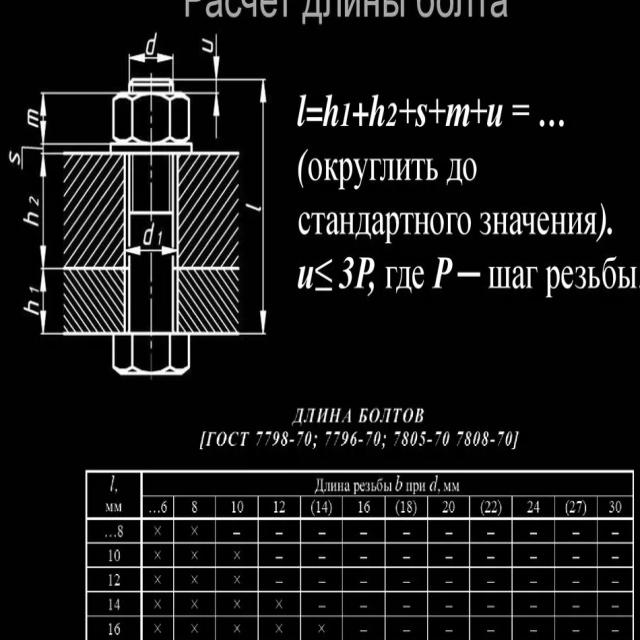marking_line: (258, 82, 272, 334), (39, 157, 47, 264), (213, 35, 220, 140), (127, 244, 177, 258), (37, 267, 47, 335), (39, 96, 50, 146), (131, 54, 172, 64)
numeric: (394, 502, 416, 518), (106, 546, 124, 565), (232, 497, 249, 517), (483, 499, 500, 519), (154, 498, 171, 517), (353, 500, 374, 515), (523, 499, 542, 515), (187, 496, 202, 516), (605, 499, 625, 514), (107, 596, 124, 613), (105, 572, 123, 588), (108, 619, 122, 639), (312, 501, 331, 515), (568, 499, 587, 513), (273, 502, 286, 517), (441, 501, 454, 513), (117, 523, 123, 542)
